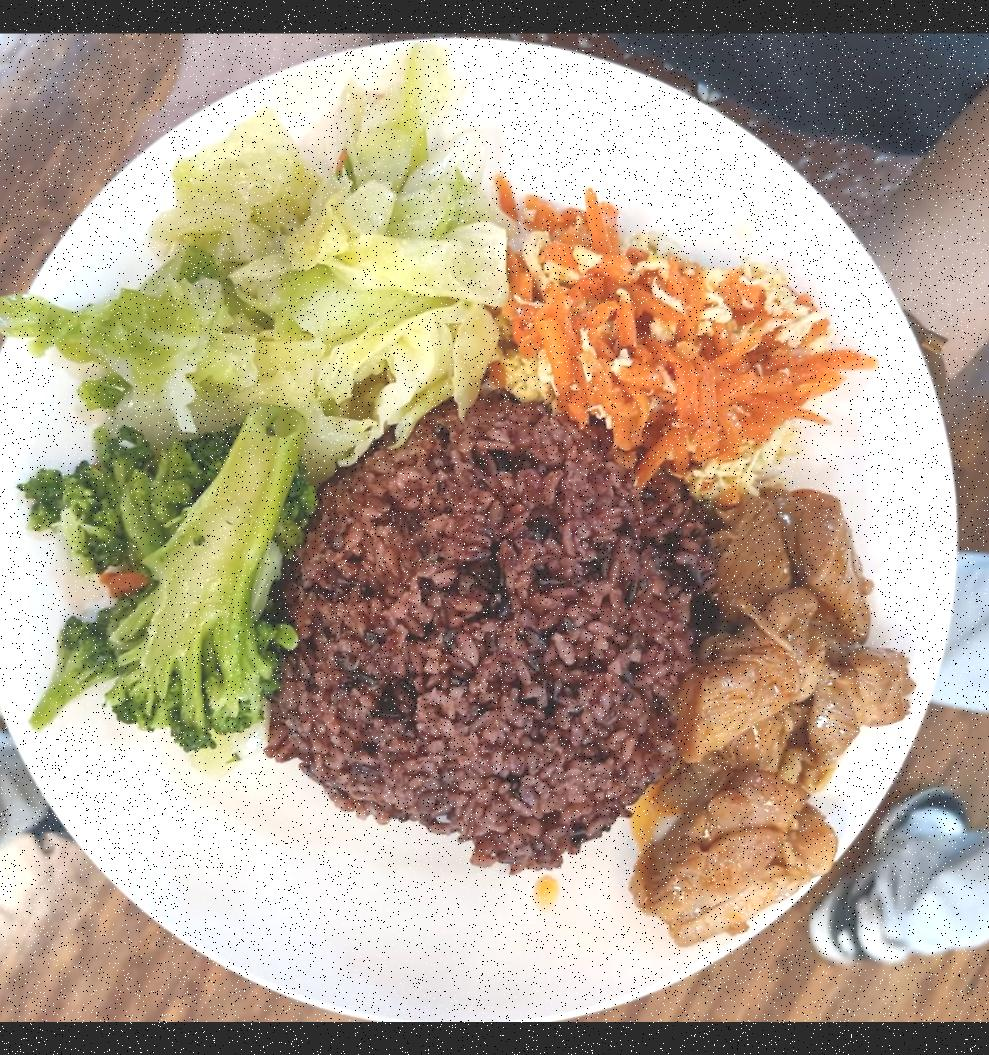big fried chicken leg: (0, 33, 959, 1011)
braised fish: (270, 407, 701, 864)
braised fish fillet: (0, 56, 519, 448), (25, 426, 326, 769), (506, 202, 862, 482)
braised pork: (642, 484, 924, 940)
